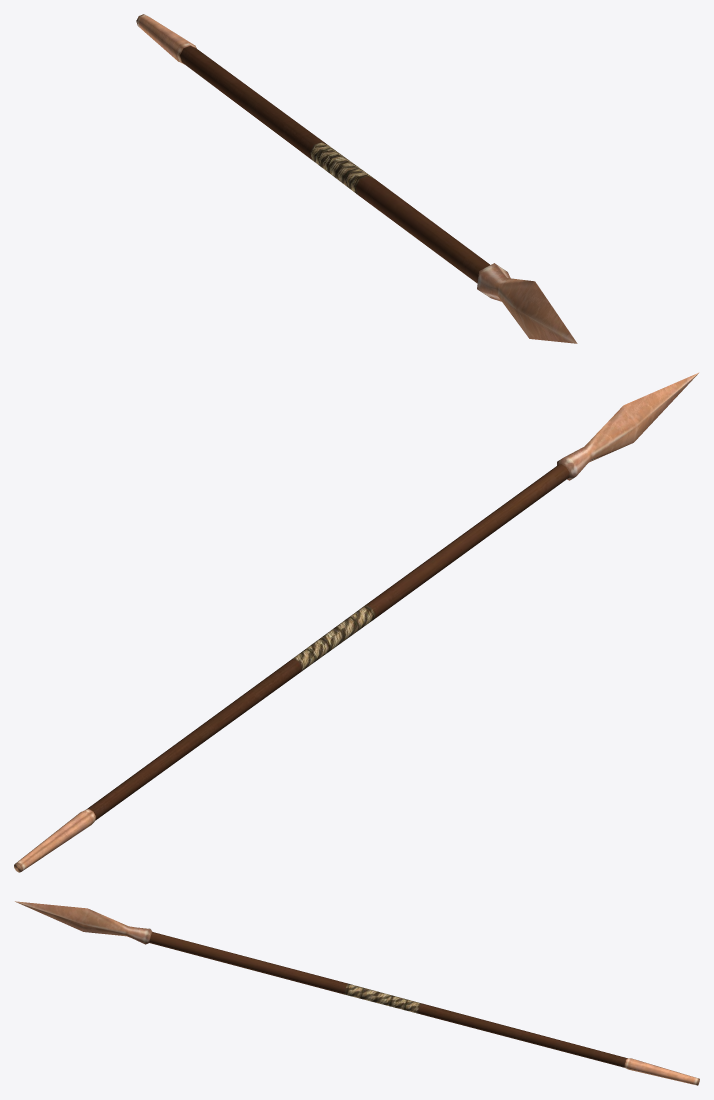
File: weapon-copperweapons.glb
3 renders of one model, top to bottom at view 1: azimuth 30°, elevation 25°; view 2: azimuth 150°, elevation 25°; view 3: azimuth 270°, elevation 25°, orthographic. The views are drawn at different scales.
Size of the model in its own units: 0.5278 by 0.486 by 2.45.
Materials: 1 (1 with a texture image).
